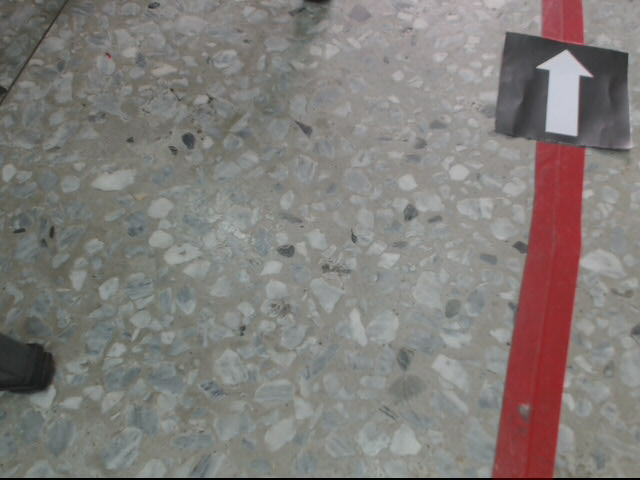straight: (496, 33, 635, 152)
